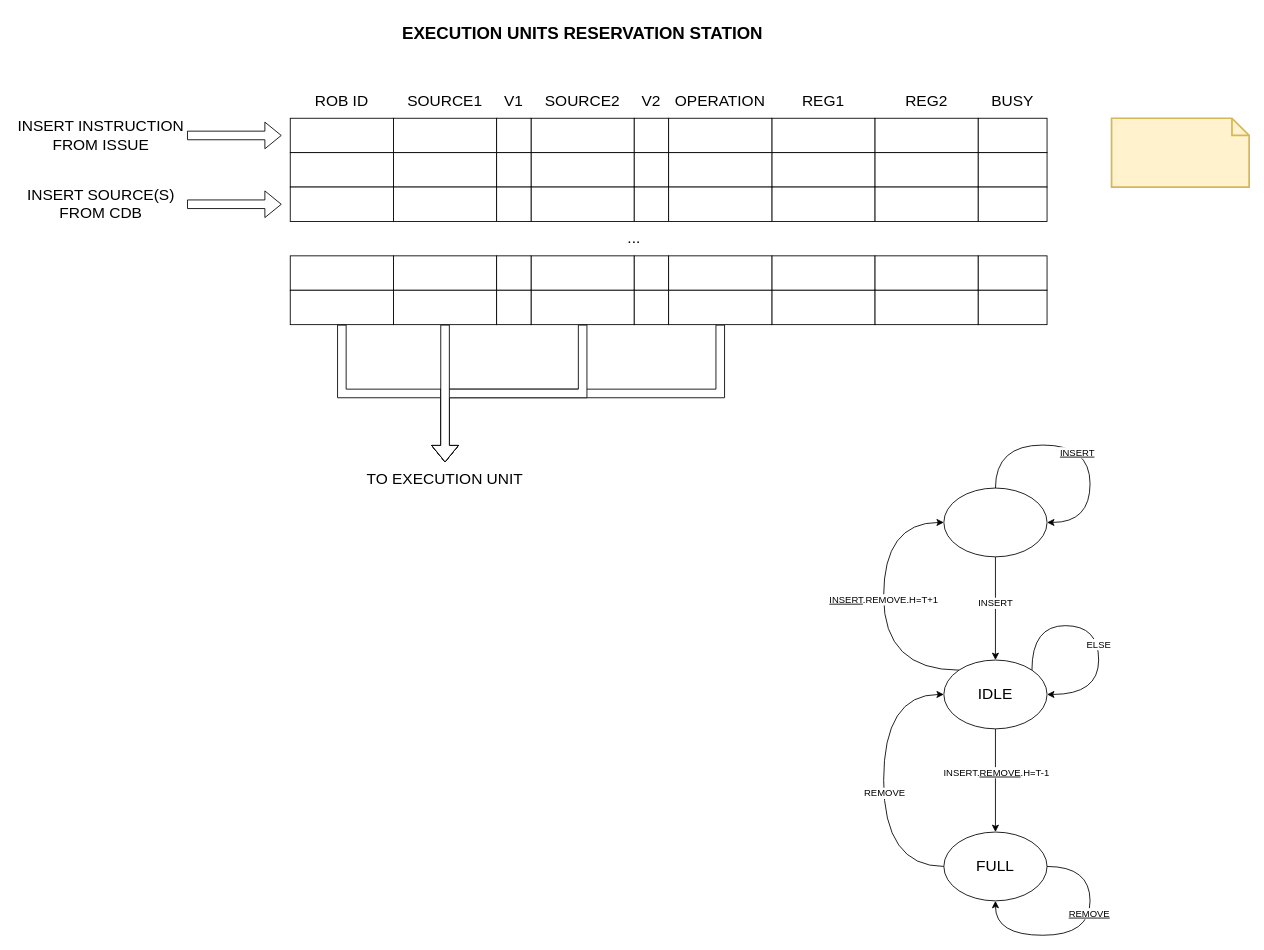
The diagram is 1264 pixels wide and 950 high, and some of its shapes have lost their labels. Here are the shapes that lost their labels. From the top down, the centre of each, then its label:
At (1180,152): "Note REG1 and REG2 are aliases from the RAT".
At (995,522): "EMPTY".
